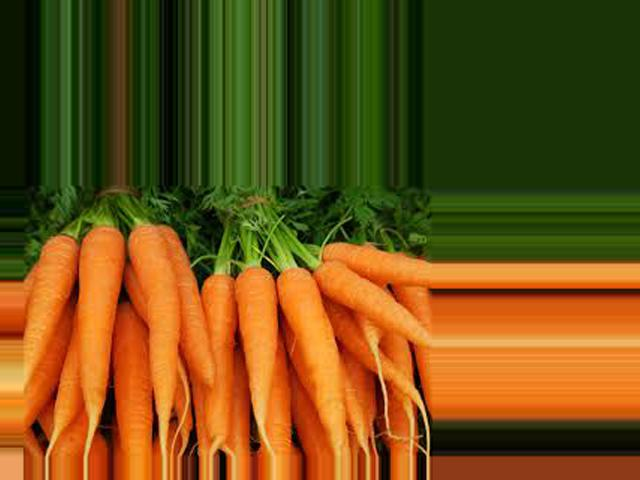carrot: (65, 226, 130, 446)
